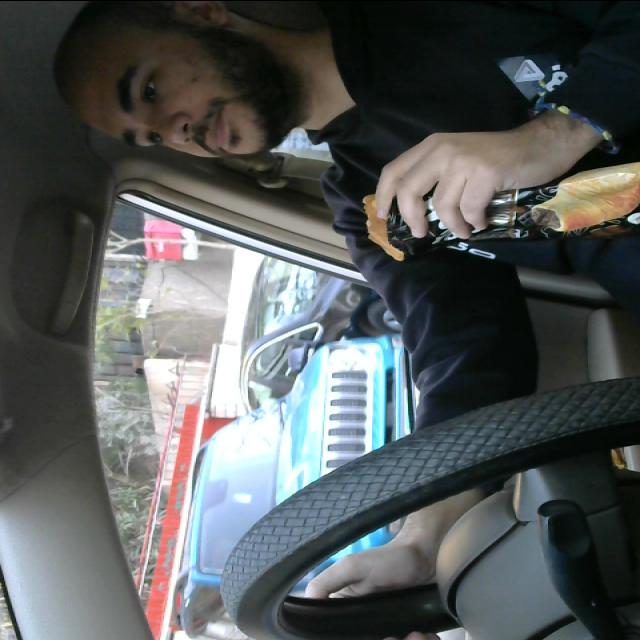eating: (359, 150, 640, 261)
